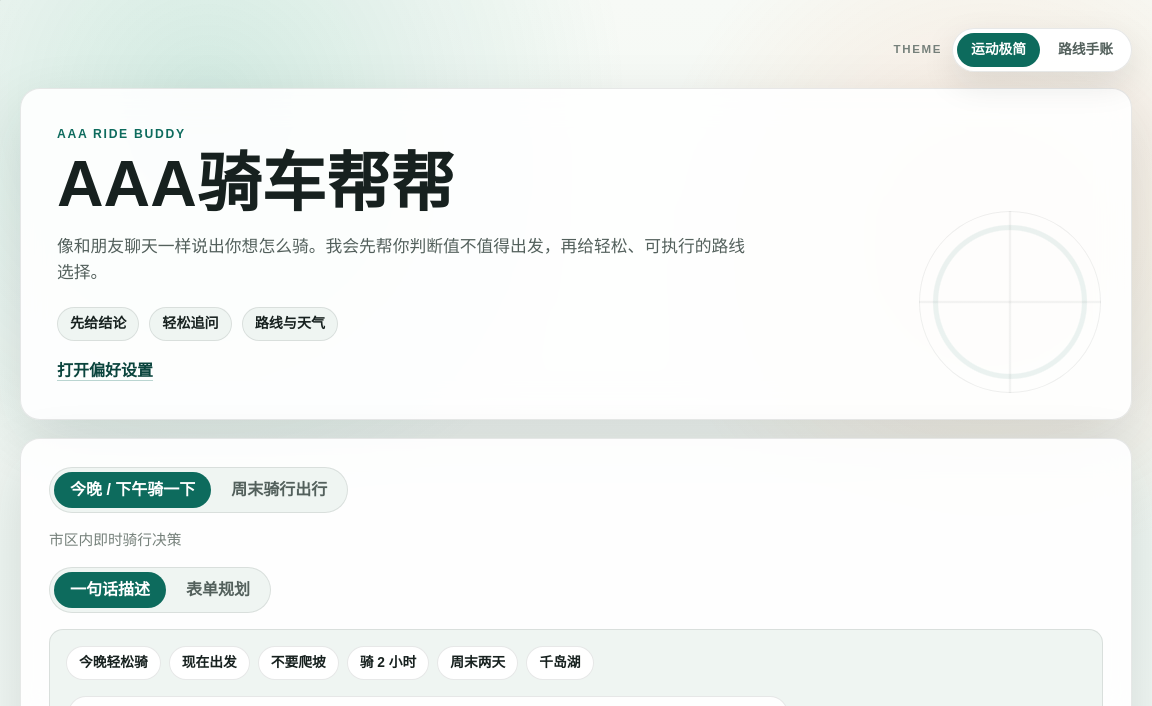
structured planner treats exact start point as primary and can fill it from suggestions
The image size is (1152, 706).
Click the button "表单规划": (218, 590) [170, 572, 266, 608]
(page scrolled)
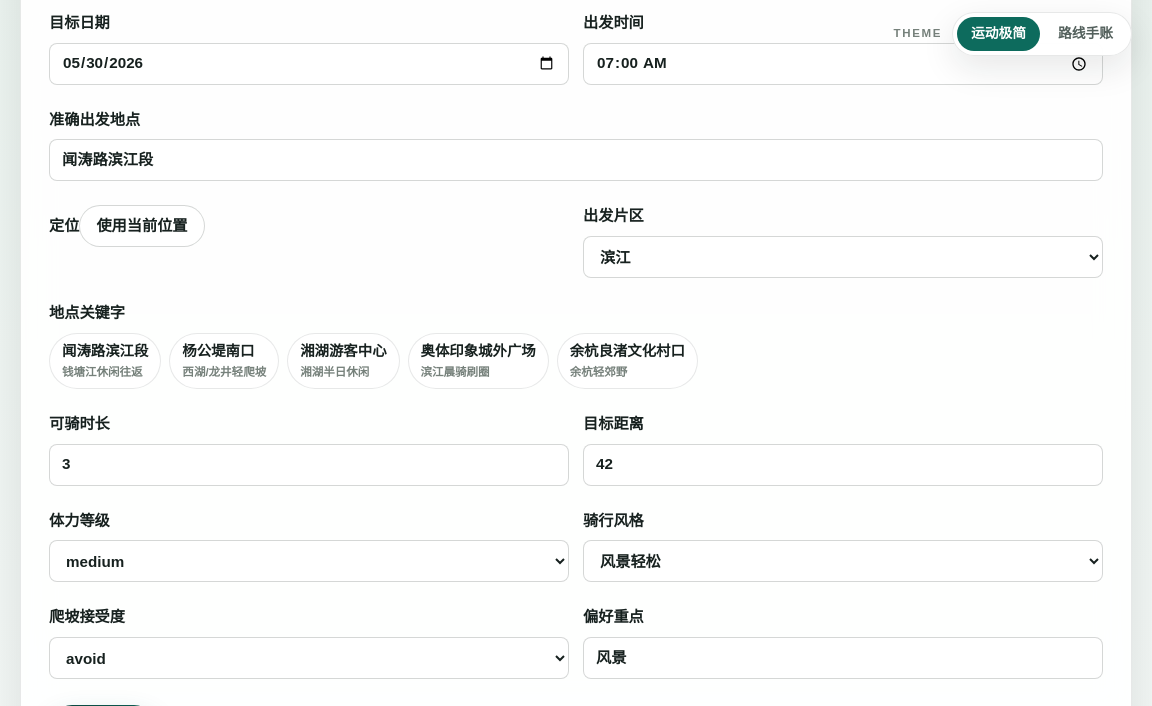
Now the text "准确出发地点" is shown, box [49, 109, 1103, 181]
Now the dropdown labelled "出发片区" shows "滨江", box [583, 236, 1103, 278]
Click the button "杨公堤南口 西湖/龙井轻爬坡": (224, 361) [169, 333, 279, 389]
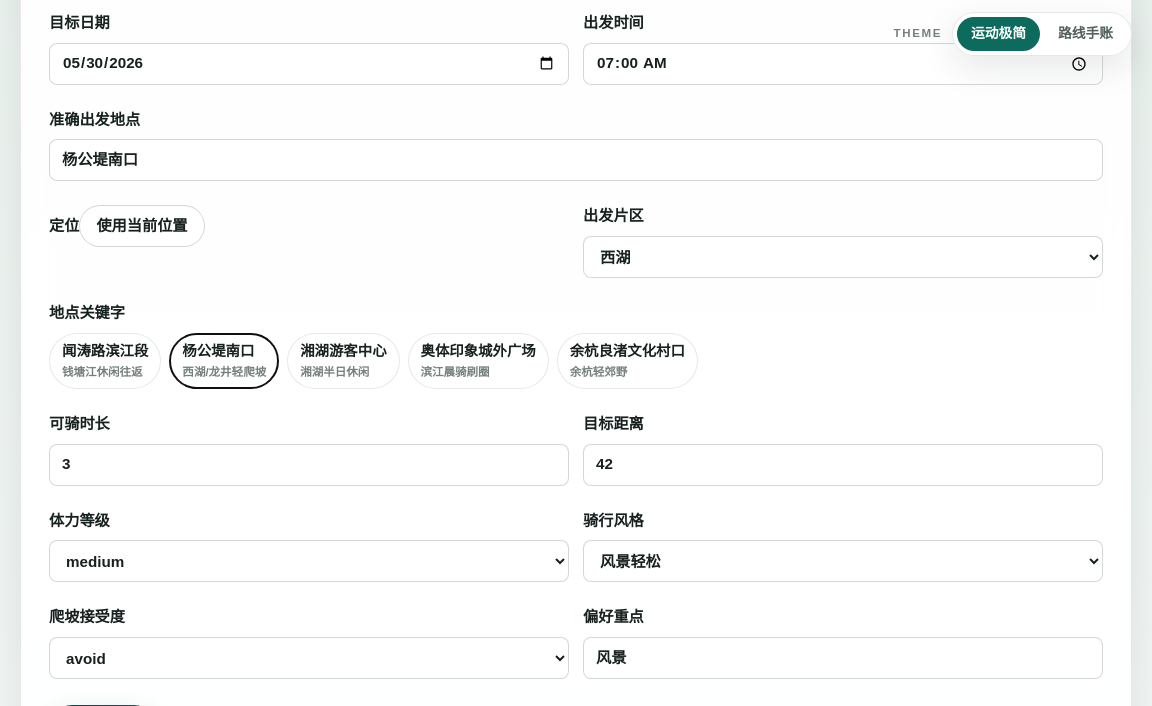
Now the field labelled "准确出发地点" holds "杨公堤南口", box [49, 139, 1103, 181]
Now the dropdown labelled "出发片区" shows "西湖", box [583, 236, 1103, 278]
